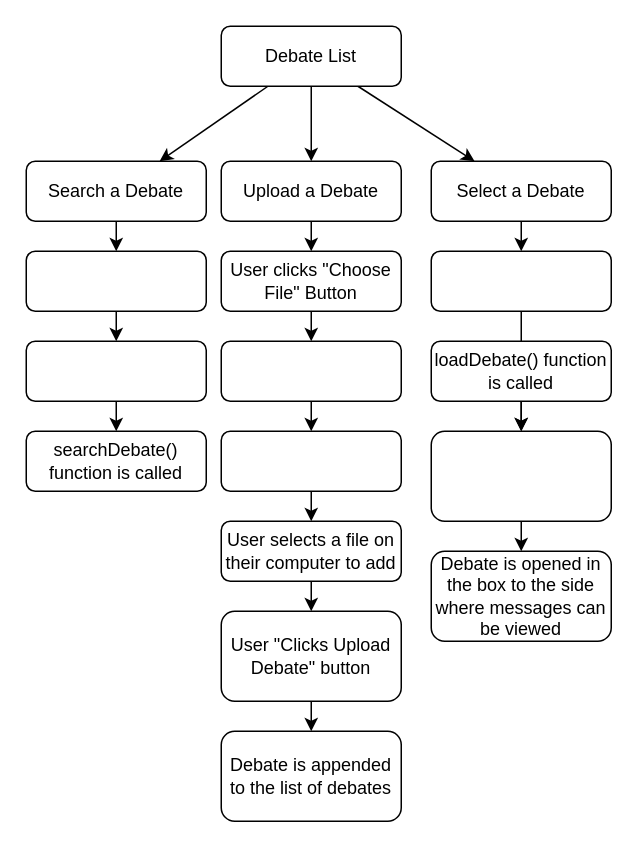
This 638x848 diagram has some shape labels left out. The centre of each missing label's shape, as x and y in pixels:
"Open the OS file explorer" belongs at (x=310, y=460).
"Search Button Clicked" belongs at (x=115, y=370).
"The message box is cleared of any previous items" belongs at (x=520, y=475).
"uploadDebate() function called" belongs at (x=310, y=370).
"User clicks on a Debate from the list" belongs at (x=520, y=280).
"User enters text into search bar" belongs at (x=115, y=280).
